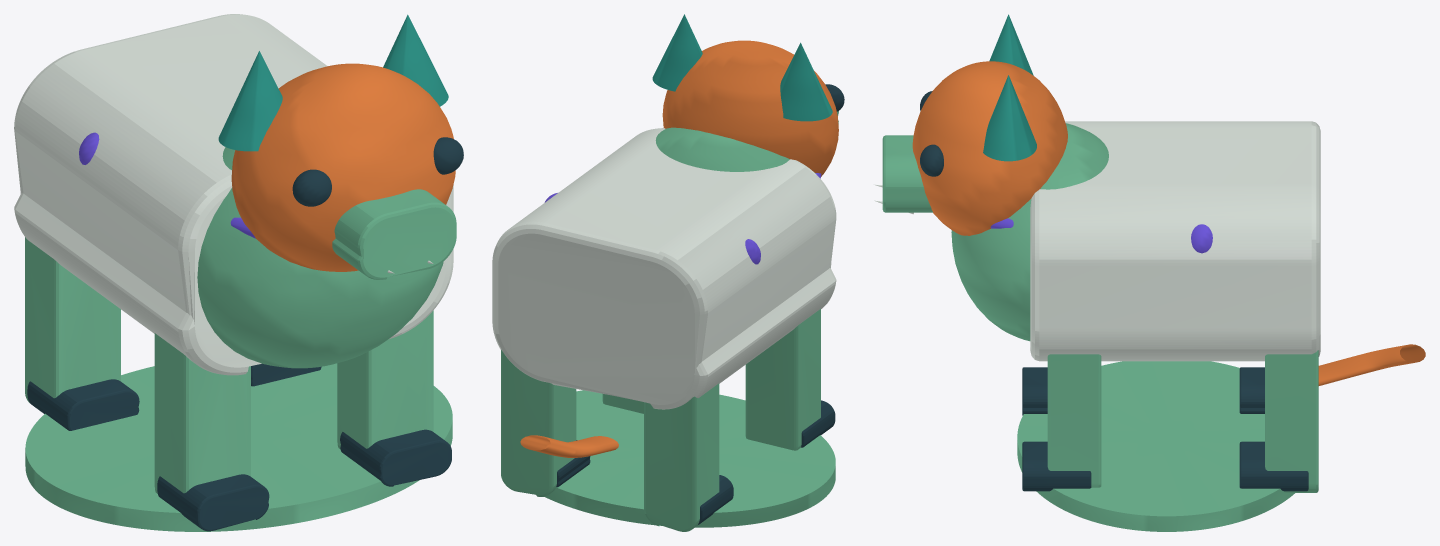
Rendered from 0167_恐龙图鉴_特暴龙.glb.
3 renders of one model, left to right at view 1: azimuth 30°, elevation 25°; view 2: azimuth 150°, elevation 25°; view 3: azimuth 270°, elevation 25°, orthographic. The views are drawn at different scales.
Parts seen in each view (by area): view 1: card_0167; view 2: card_0167; view 3: card_0167.
Part boxes in pixels (x1,y1,x2,y2): card_0167: (14, 14, 463, 531); card_0167: (492, 14, 844, 531); card_0167: (874, 14, 1425, 531).
Size of the model in its own units: 0.832 by 1 by 1.23.
